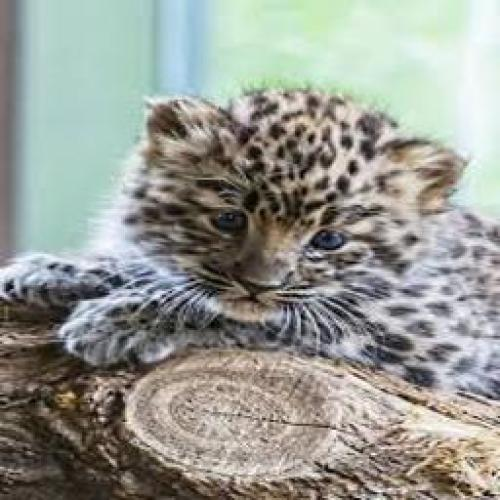amur_leopard-endangered: (2, 80, 500, 371)
